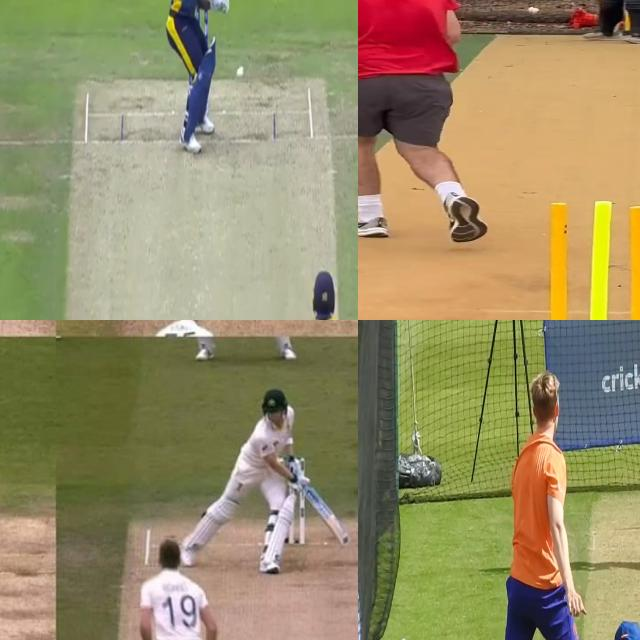Cricket ball: (236, 63, 247, 82), (526, 5, 542, 15), (398, 635, 412, 640)
Stumps: (526, 199, 640, 320)
